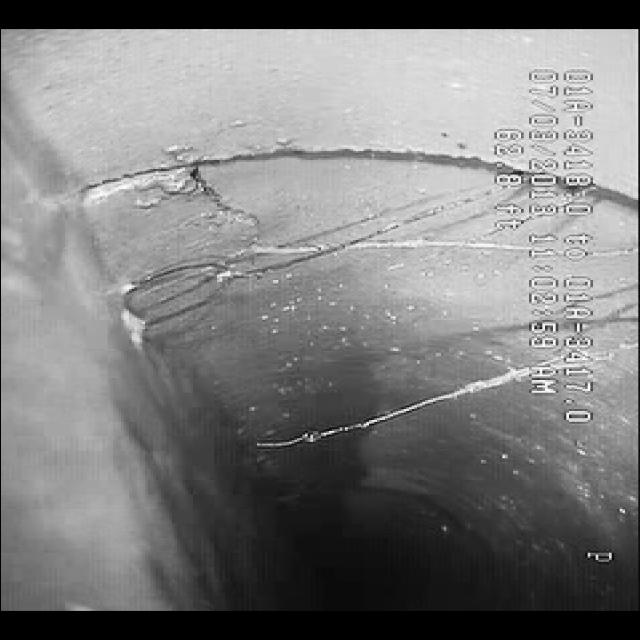Crack: (125, 147, 367, 300)
